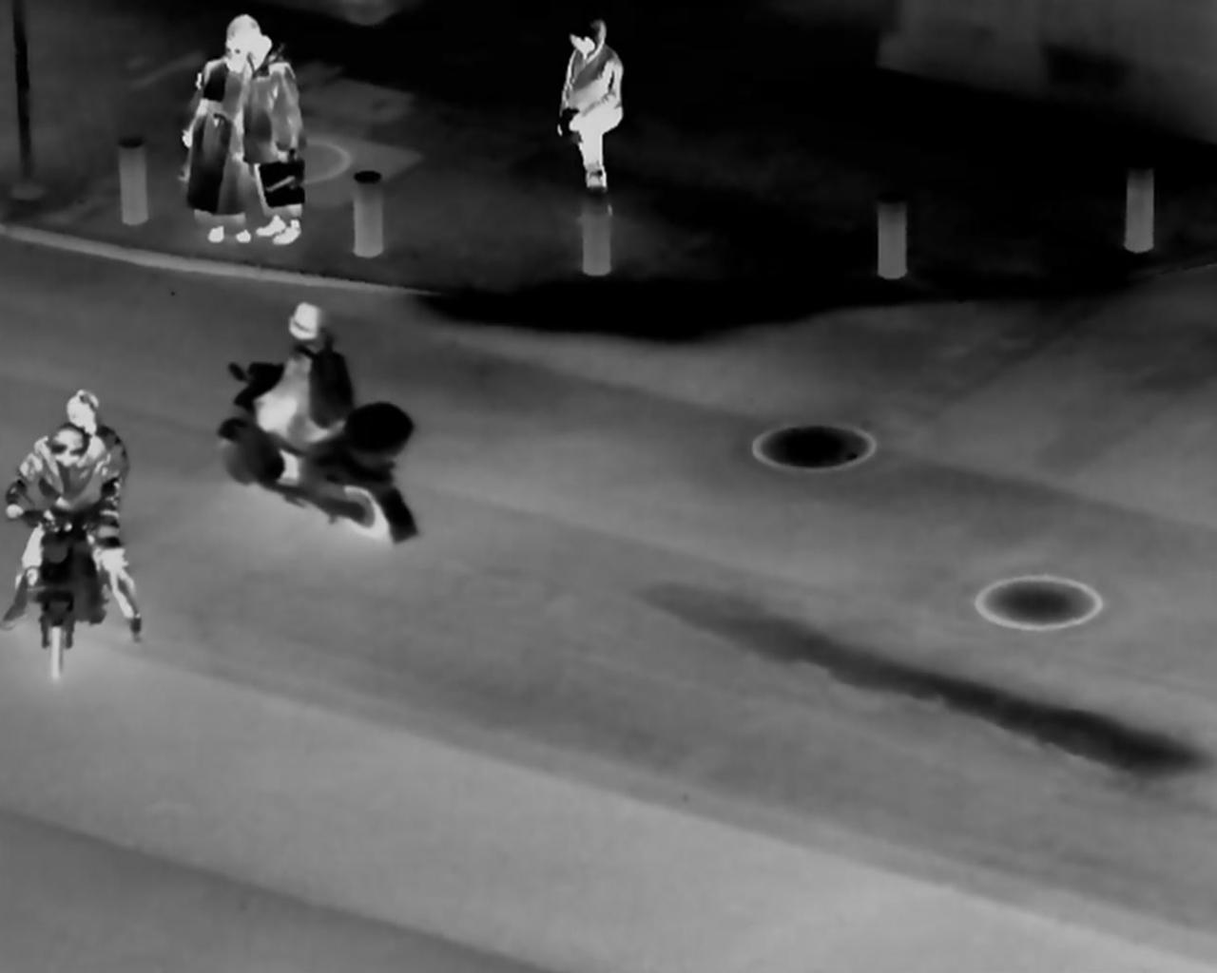person: (245, 289, 344, 508), (226, 16, 319, 235), (52, 380, 147, 589), (29, 410, 117, 606), (184, 34, 254, 242), (550, 11, 633, 184)
